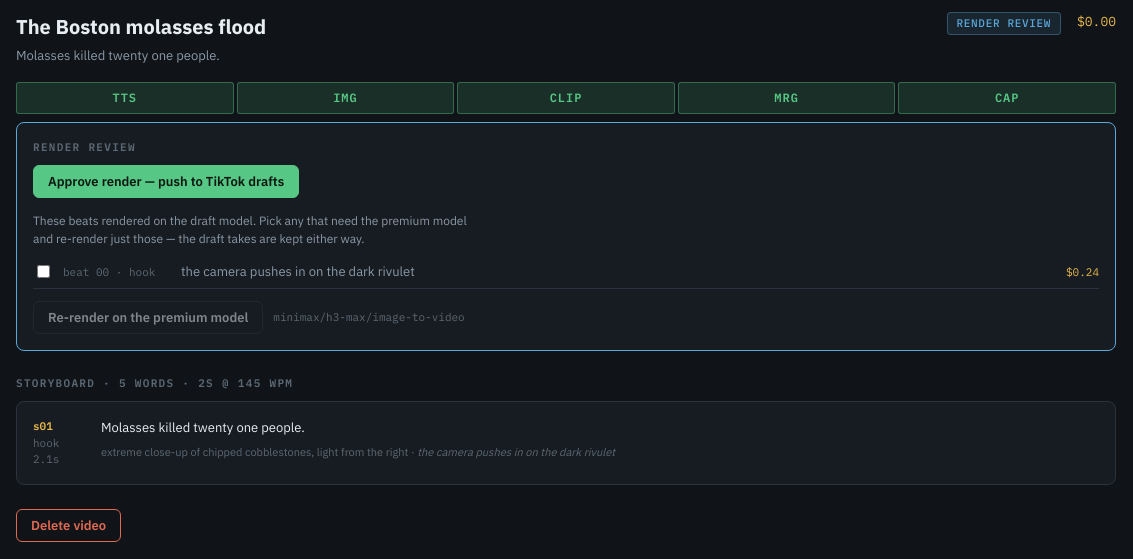
Test: render review › prices a premium re-render before the producer spends it
expect the button "Re-render on the premium model" is disabled: met, box top-left (33, 300), bottom-right (263, 334)
What coordinates should you click on to do the following:
click the checkbox
I would click on:
 (44, 272)
Its box is top-left (37, 265), bottom-right (50, 278).
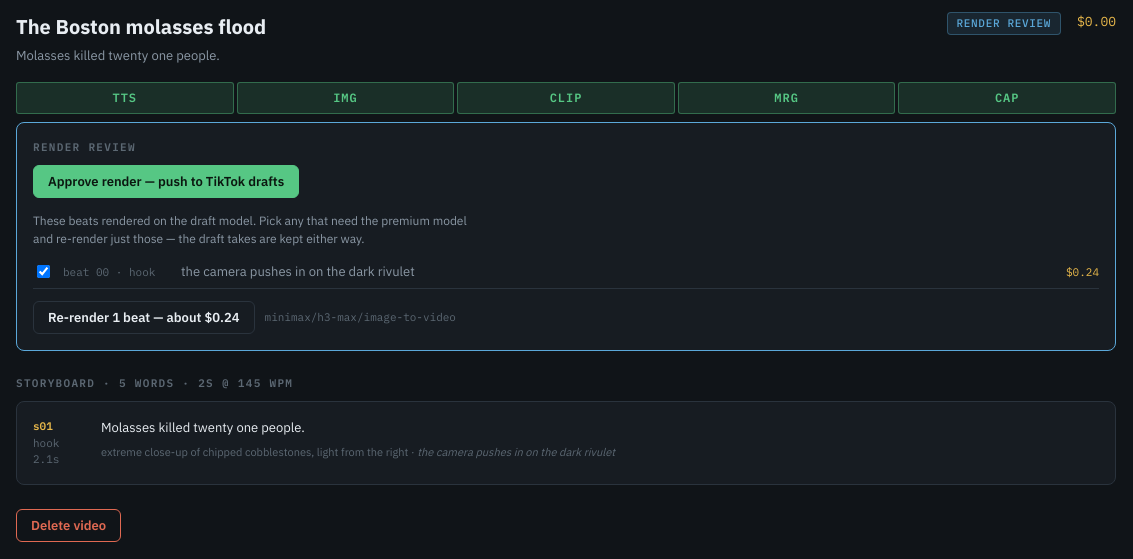
expect the button "Re-render 1 beat — about $0.24" is enabled: met, box top-left (33, 300), bottom-right (254, 334)
